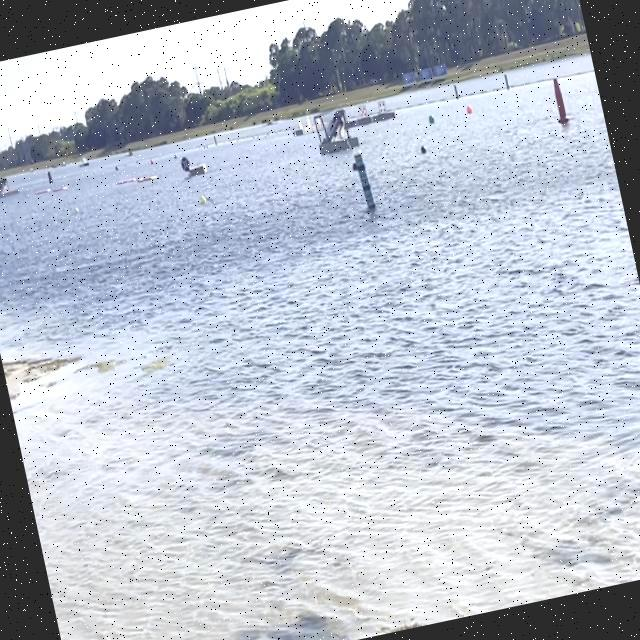buoy: (428, 115, 434, 124), (466, 105, 472, 114)
